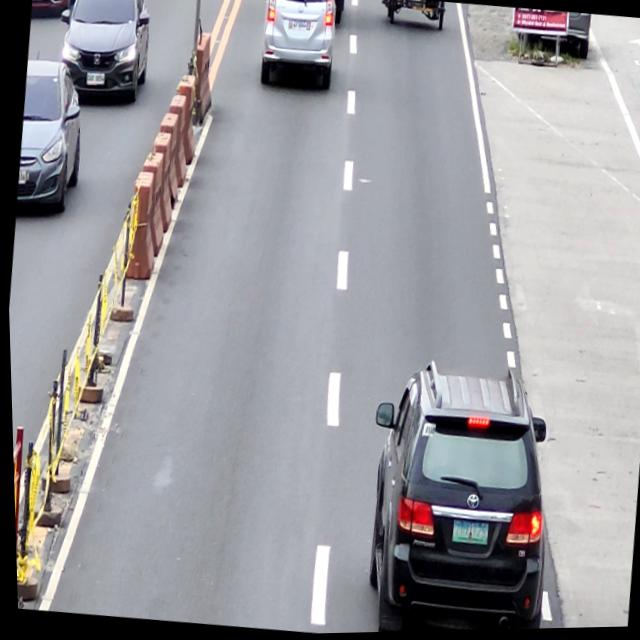Car: (347, 352, 564, 634), (256, 0, 340, 93)
License-Plate: (447, 521, 486, 547), (286, 21, 311, 33)
